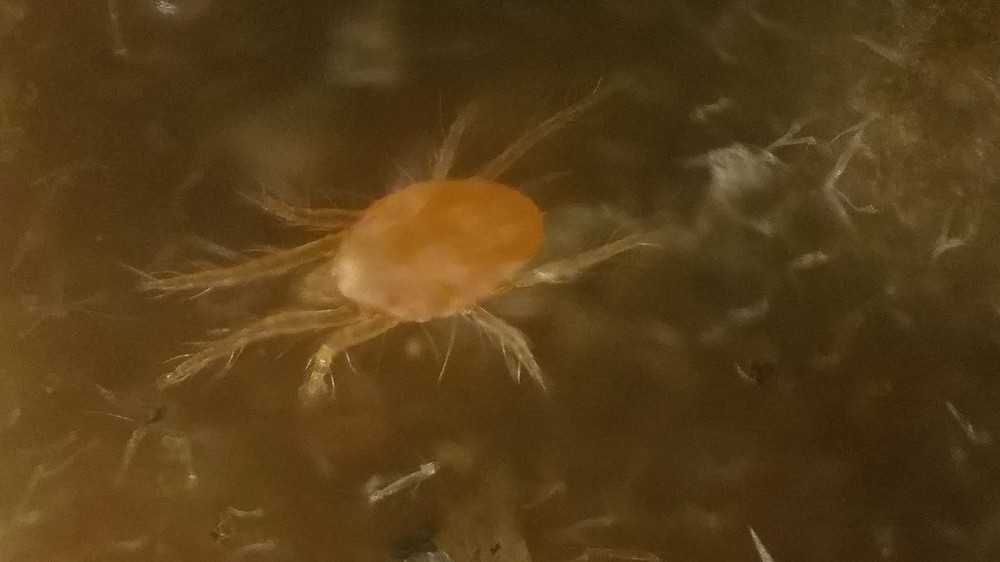Aracnido Rojo: (150, 109, 662, 429)
